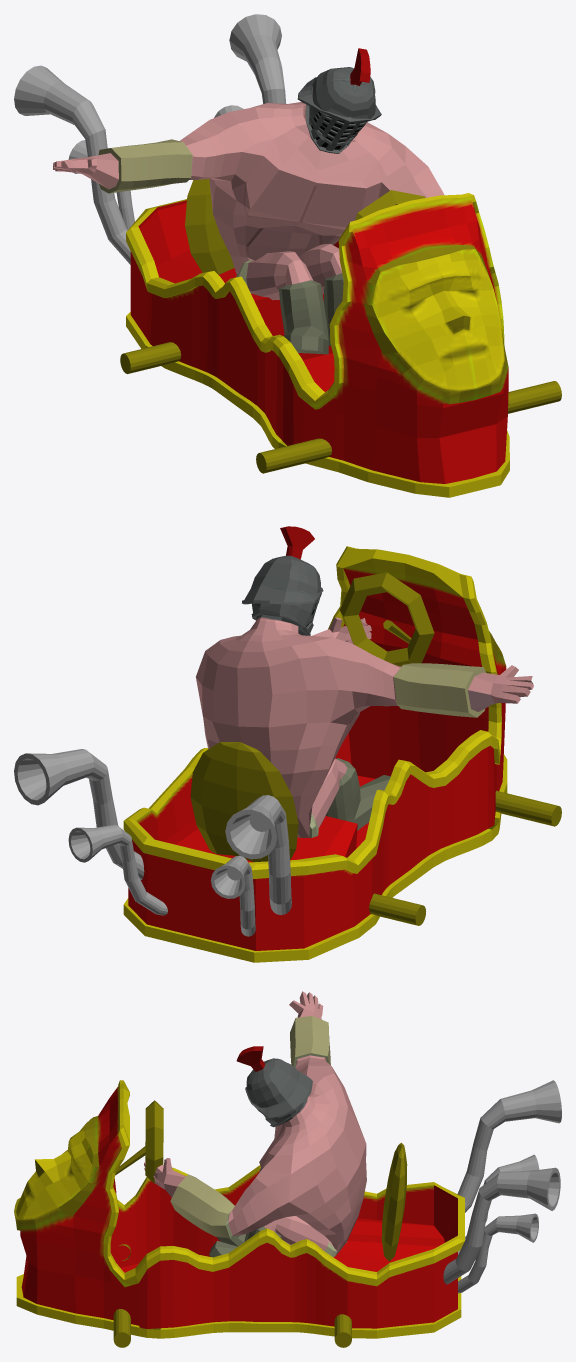
Rendered from gladiVacile_000539.obj.
3 views of the same model, one above another, from view 1: azimuth 30°, elevation 25°; view 2: azimuth 150°, elevation 25°; view 3: azimuth 270°, elevation 25° (orthographic). The views are drawn at different scales.
Parts seen in each view (by area): view 1: GladiChasis_GladiChasisH, Gadiador_Gladiador_H.001, GladiTubos_GladiTubosH, GladiVolante_GladiVolanteH; view 2: GladiChasis_GladiChasisH, Gadiador_Gladiador_H.001, GladiVolante_GladiVolanteH, GladiTubos_GladiTubosH; view 3: GladiChasis_GladiChasisH, Gadiador_Gladiador_H.001, GladiTubos_GladiTubosH, GladiVolante_GladiVolanteH.
Boxes of the visible parts, bbox=[...] form: GladiChasis_GladiChasisH: bbox=[126, 193, 509, 497]; Gadiador_Gladiador_H.001: bbox=[53, 48, 444, 354]; GladiTubos_GladiTubosH: bbox=[14, 14, 286, 264]; GladiVolante_GladiVolanteH: bbox=[120, 178, 561, 473]; GladiChasis_GladiChasisH: bbox=[123, 546, 507, 962]; Gadiador_Gladiador_H.001: bbox=[196, 526, 533, 837]; GladiVolante_GladiVolanteH: bbox=[190, 572, 561, 925]; GladiTubos_GladiTubosH: bbox=[14, 749, 291, 936]; GladiChasis_GladiChasisH: bbox=[14, 1080, 464, 1338]; Gadiador_Gladiador_H.001: bbox=[144, 991, 366, 1257]; GladiTubos_GladiTubosH: bbox=[443, 1080, 561, 1293]; GladiVolante_GladiVolanteH: bbox=[113, 1100, 407, 1347].
Bounding box in the file's own units: 7.15 × 5.72 × 10.78.
